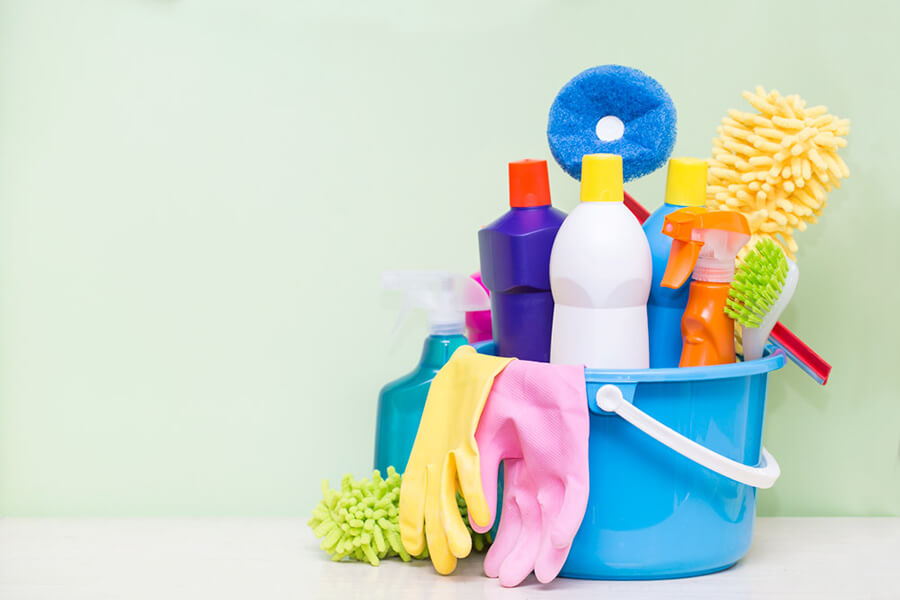Cleaning_solution: (544, 150, 658, 375), (475, 154, 565, 369)
